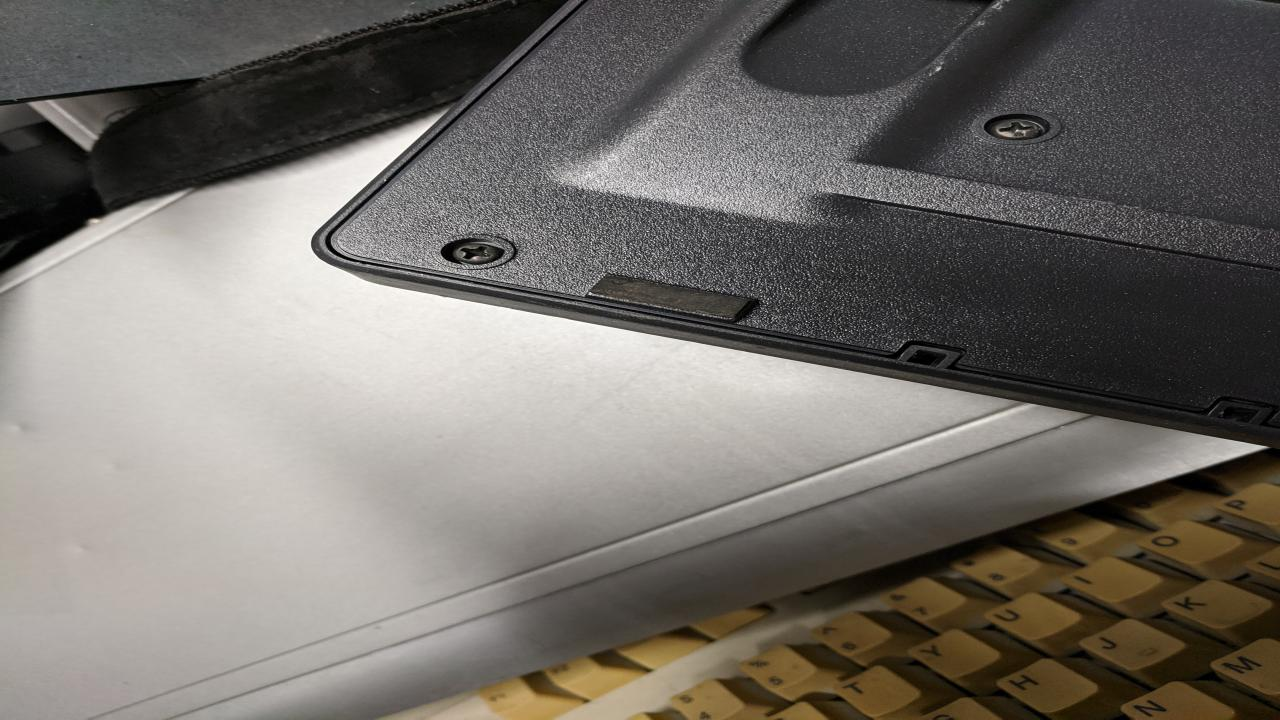CRS: (994, 116, 1042, 140), (450, 241, 502, 263)
